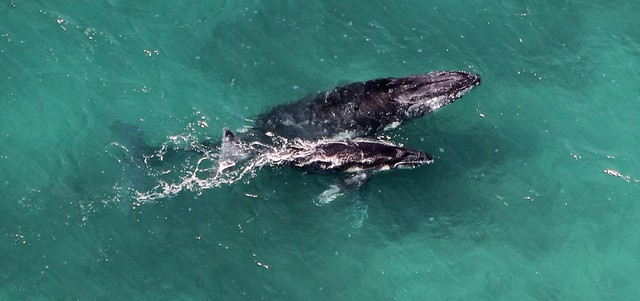whale: (109, 67, 482, 209), (211, 126, 439, 205)
